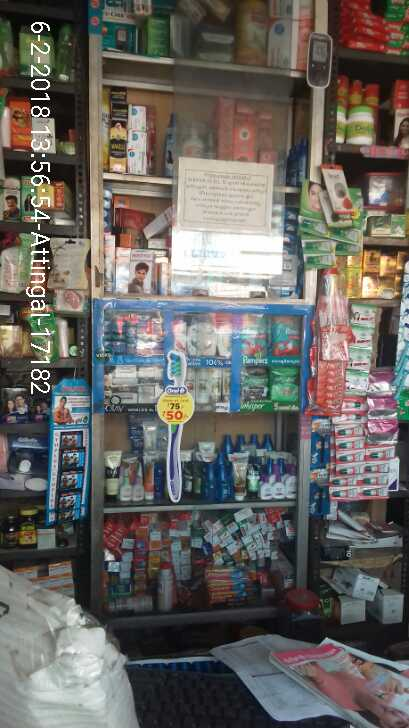vicks: (101, 317, 141, 356)
